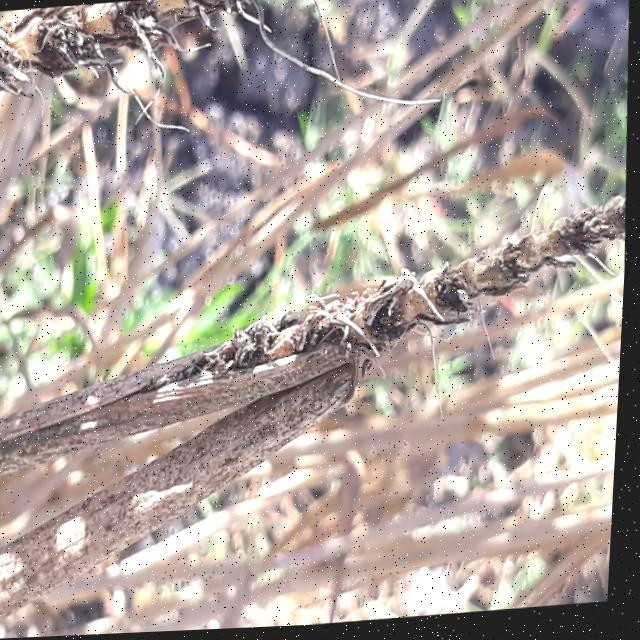loose_charred: (0, 144, 633, 632), (0, 0, 370, 160)
